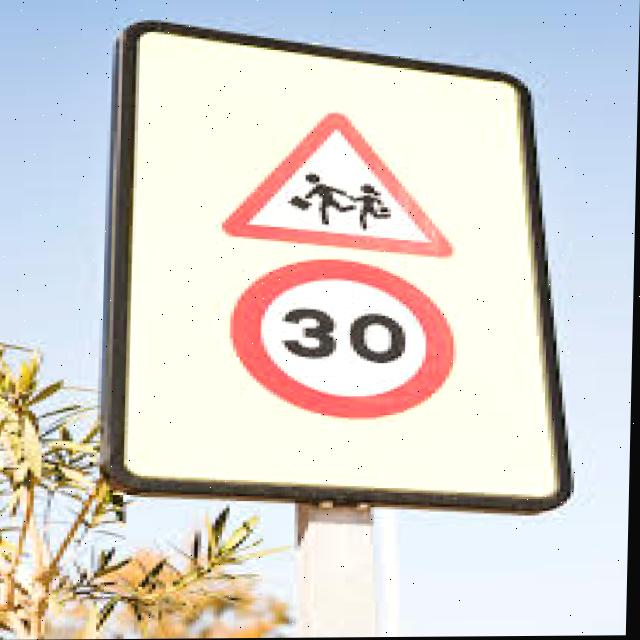Speed limit 30: (227, 256, 461, 422)
